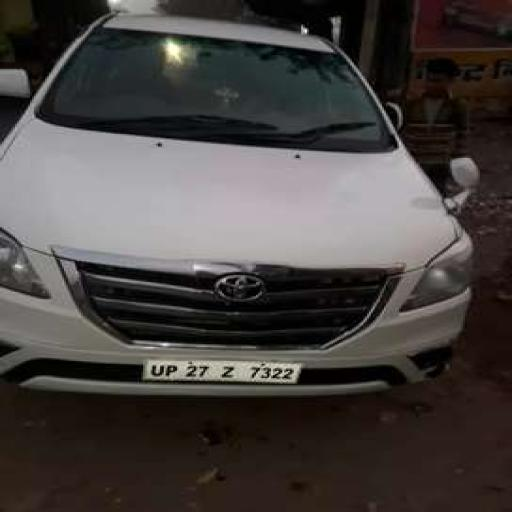license_plate`: (141, 356, 301, 384)
